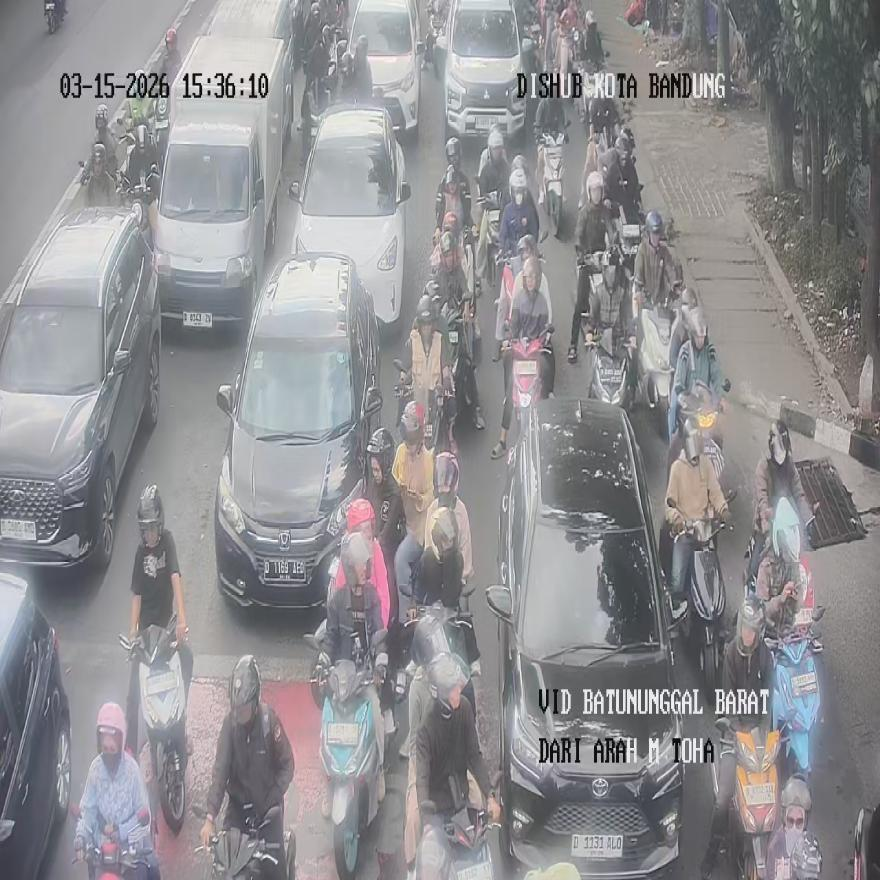Motor: (484, 399, 683, 876), (213, 252, 382, 607), (0, 205, 162, 566), (152, 34, 292, 330), (287, 98, 408, 330), (0, 570, 70, 877), (442, 0, 528, 148), (347, 0, 422, 139)
Truk: (118, 617, 191, 834), (317, 658, 387, 878), (398, 581, 479, 754), (664, 490, 734, 689), (712, 717, 787, 879), (762, 605, 822, 785), (500, 322, 555, 454), (416, 794, 496, 879), (633, 284, 678, 432), (209, 805, 297, 880), (72, 805, 158, 880), (669, 378, 729, 482), (444, 298, 483, 429), (586, 326, 636, 410), (535, 128, 566, 240), (474, 192, 502, 291), (550, 24, 576, 110), (613, 200, 642, 276), (851, 803, 879, 879), (424, 2, 444, 74), (44, 0, 66, 33)
